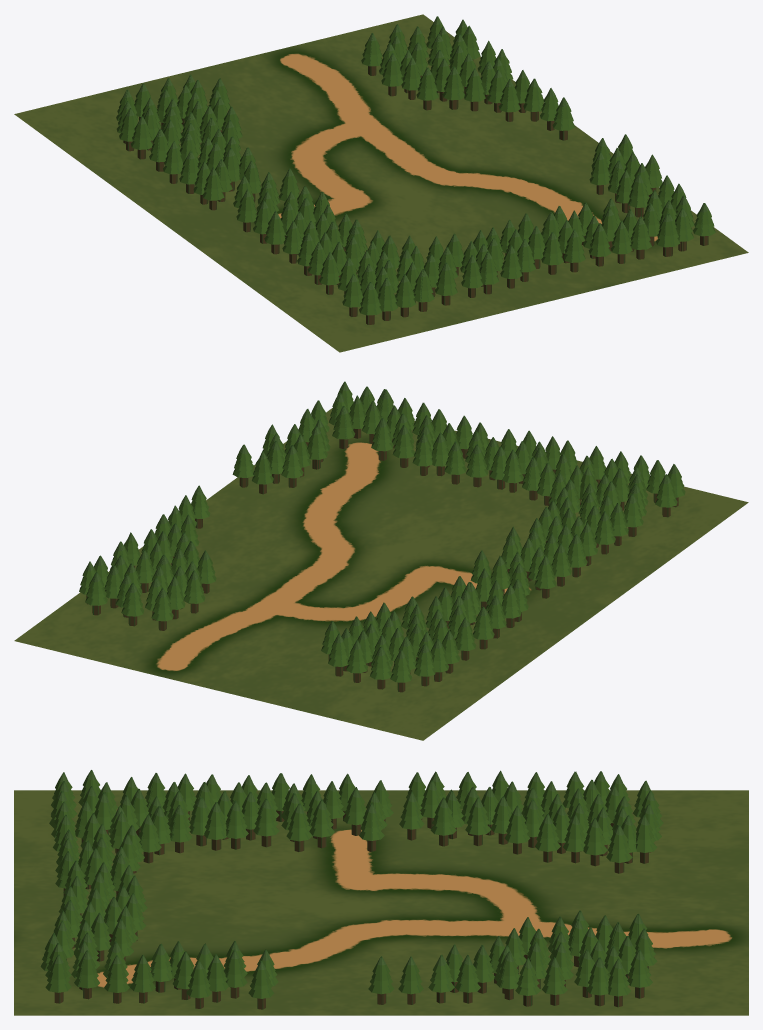
The model's file is map_with_trees.fbx.
The picture shows the model from 3 angles, top to bottom: view 1: azimuth 30°, elevation 25°; view 2: azimuth 150°, elevation 25°; view 3: azimuth 270°, elevation 25°; orthographic projection. The views are drawn at different scales.
Parts seen in each view (by area): view 1: pPlane2, MASH1_ReproMesh; view 2: pPlane2, MASH1_ReproMesh; view 3: pPlane2, MASH1_ReproMesh.
Boxes of the visible parts, <box> form: pPlane2: <box>14,14,748,352</box>; MASH1_ReproMesh: <box>116,16,715,324</box>; pPlane2: <box>14,408,748,740</box>; MASH1_ReproMesh: <box>79,381,685,692</box>; pPlane2: <box>14,790,748,1015</box>; MASH1_ReproMesh: <box>40,770,663,1009</box>.
Bounding box in the file's own units: 13094 × 1273 × 18055.
